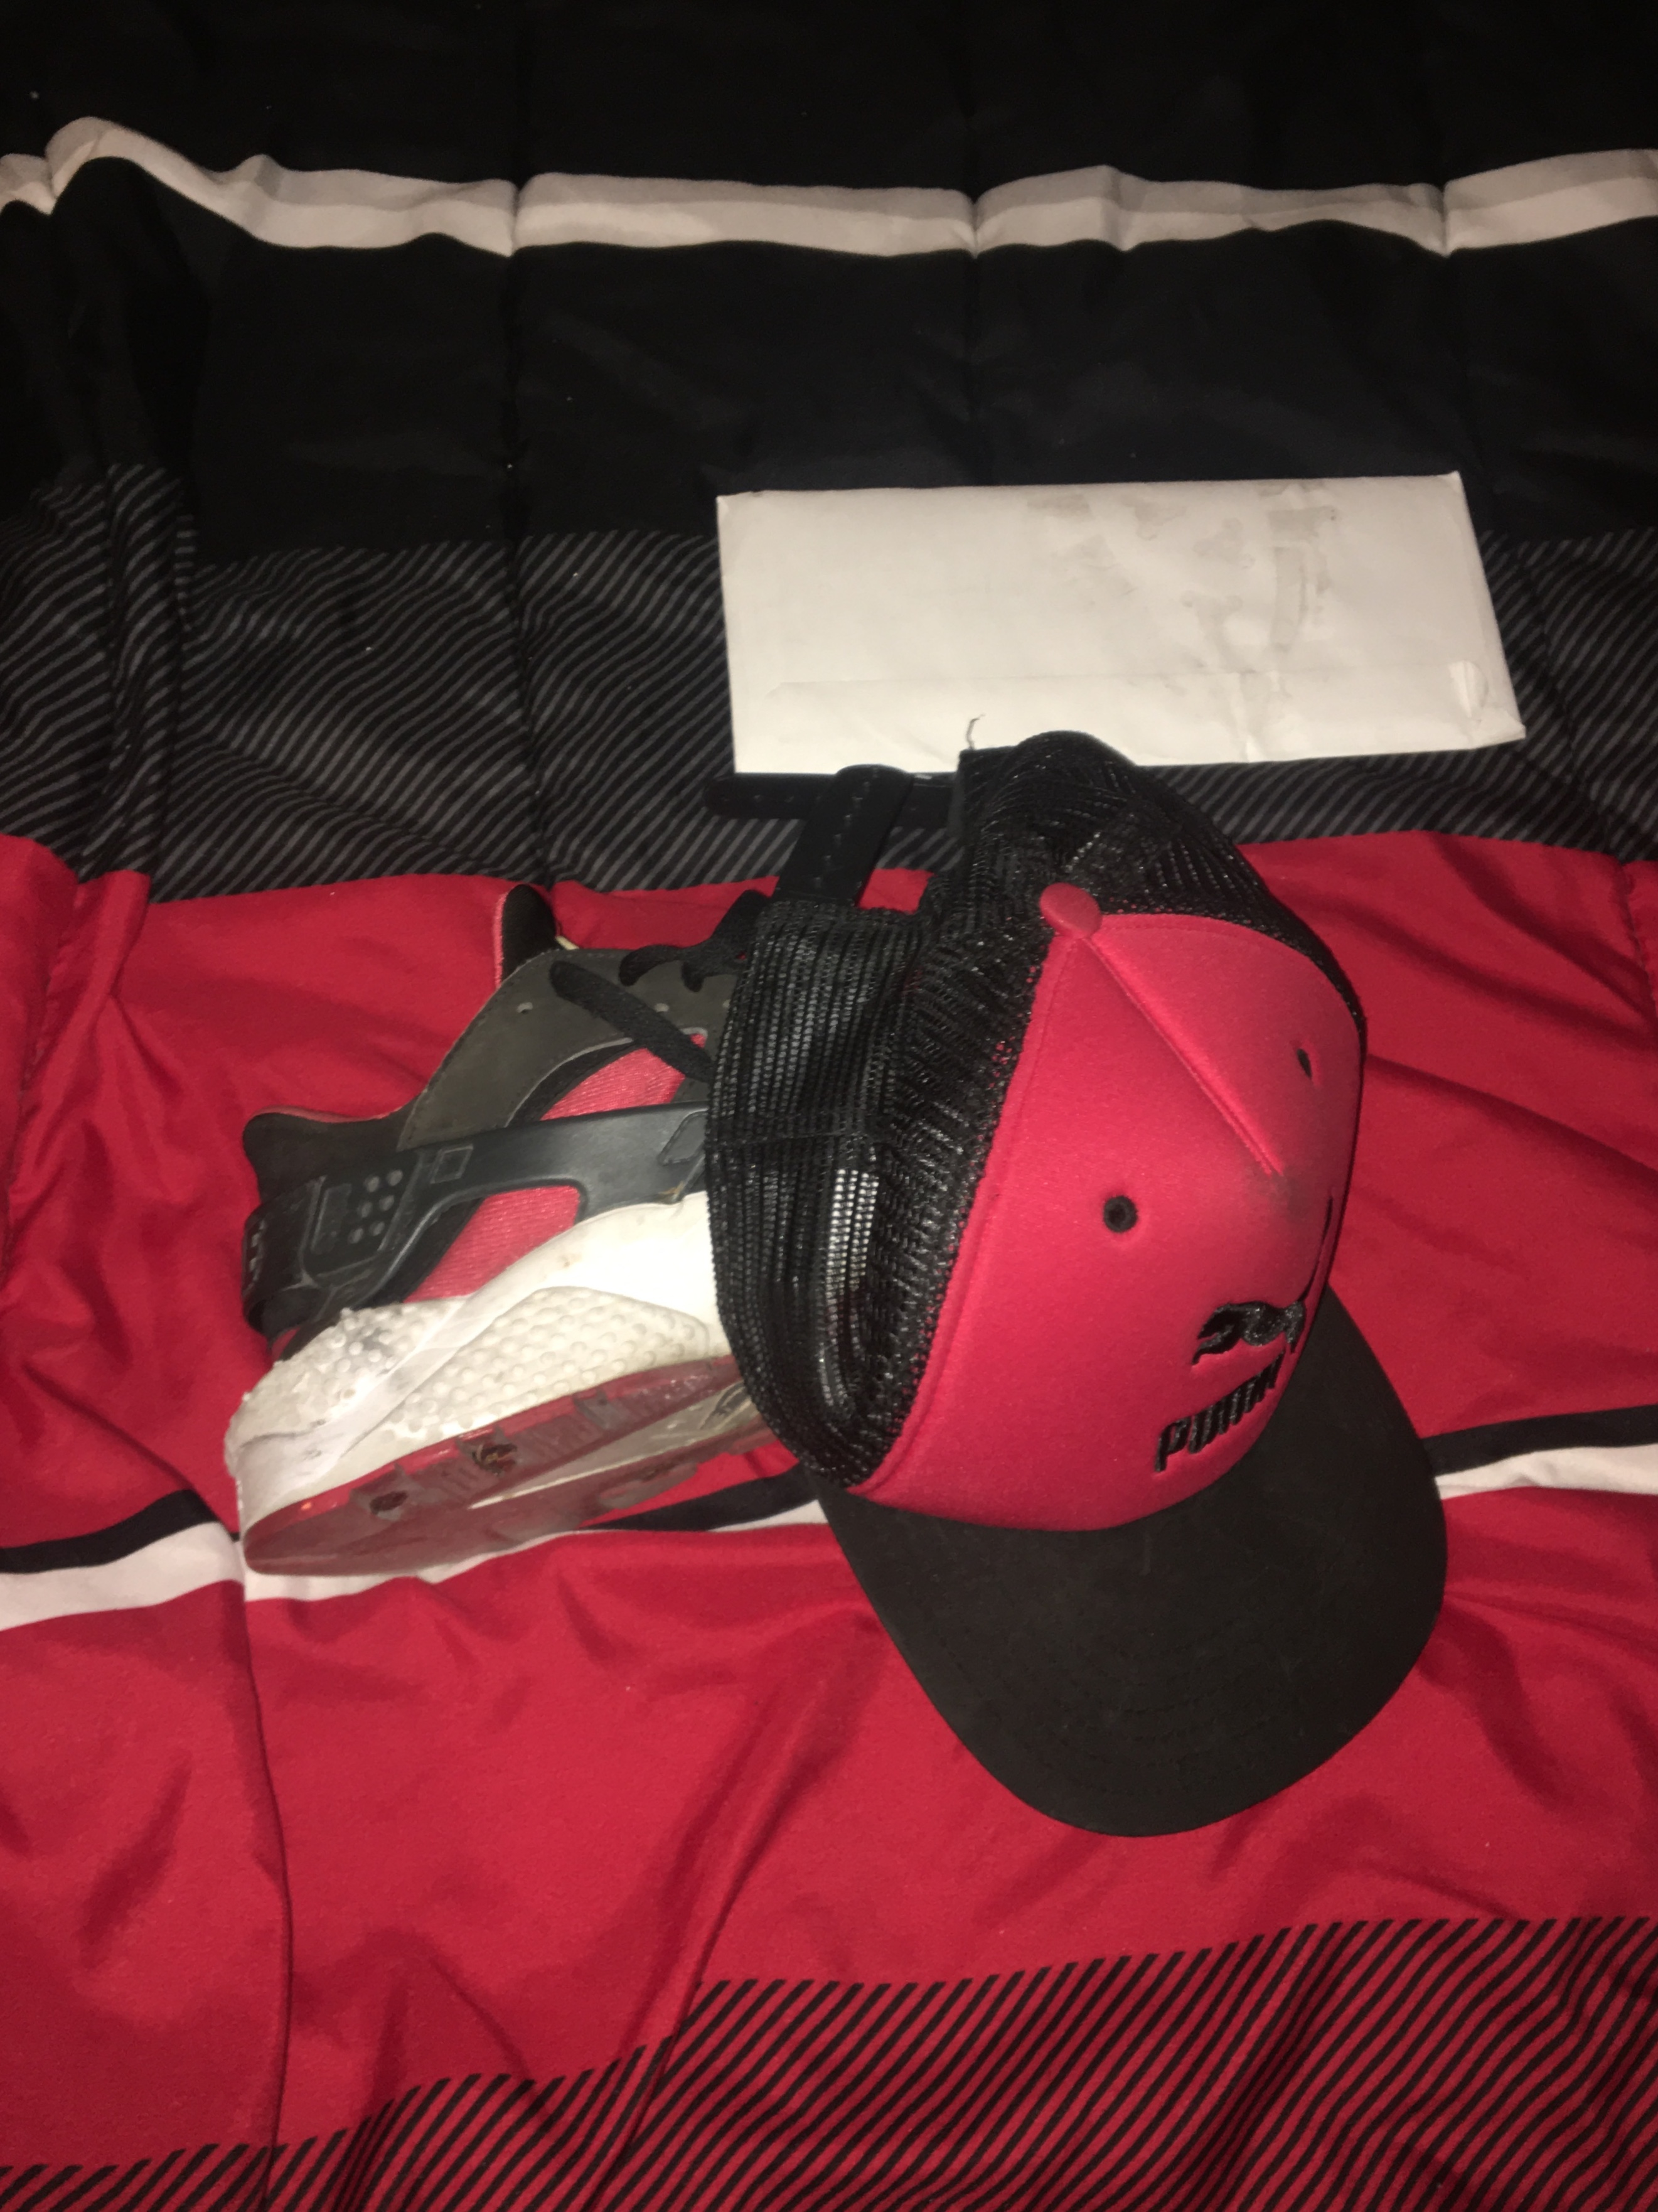Air Huarache Bred: (230, 860, 913, 1662)
